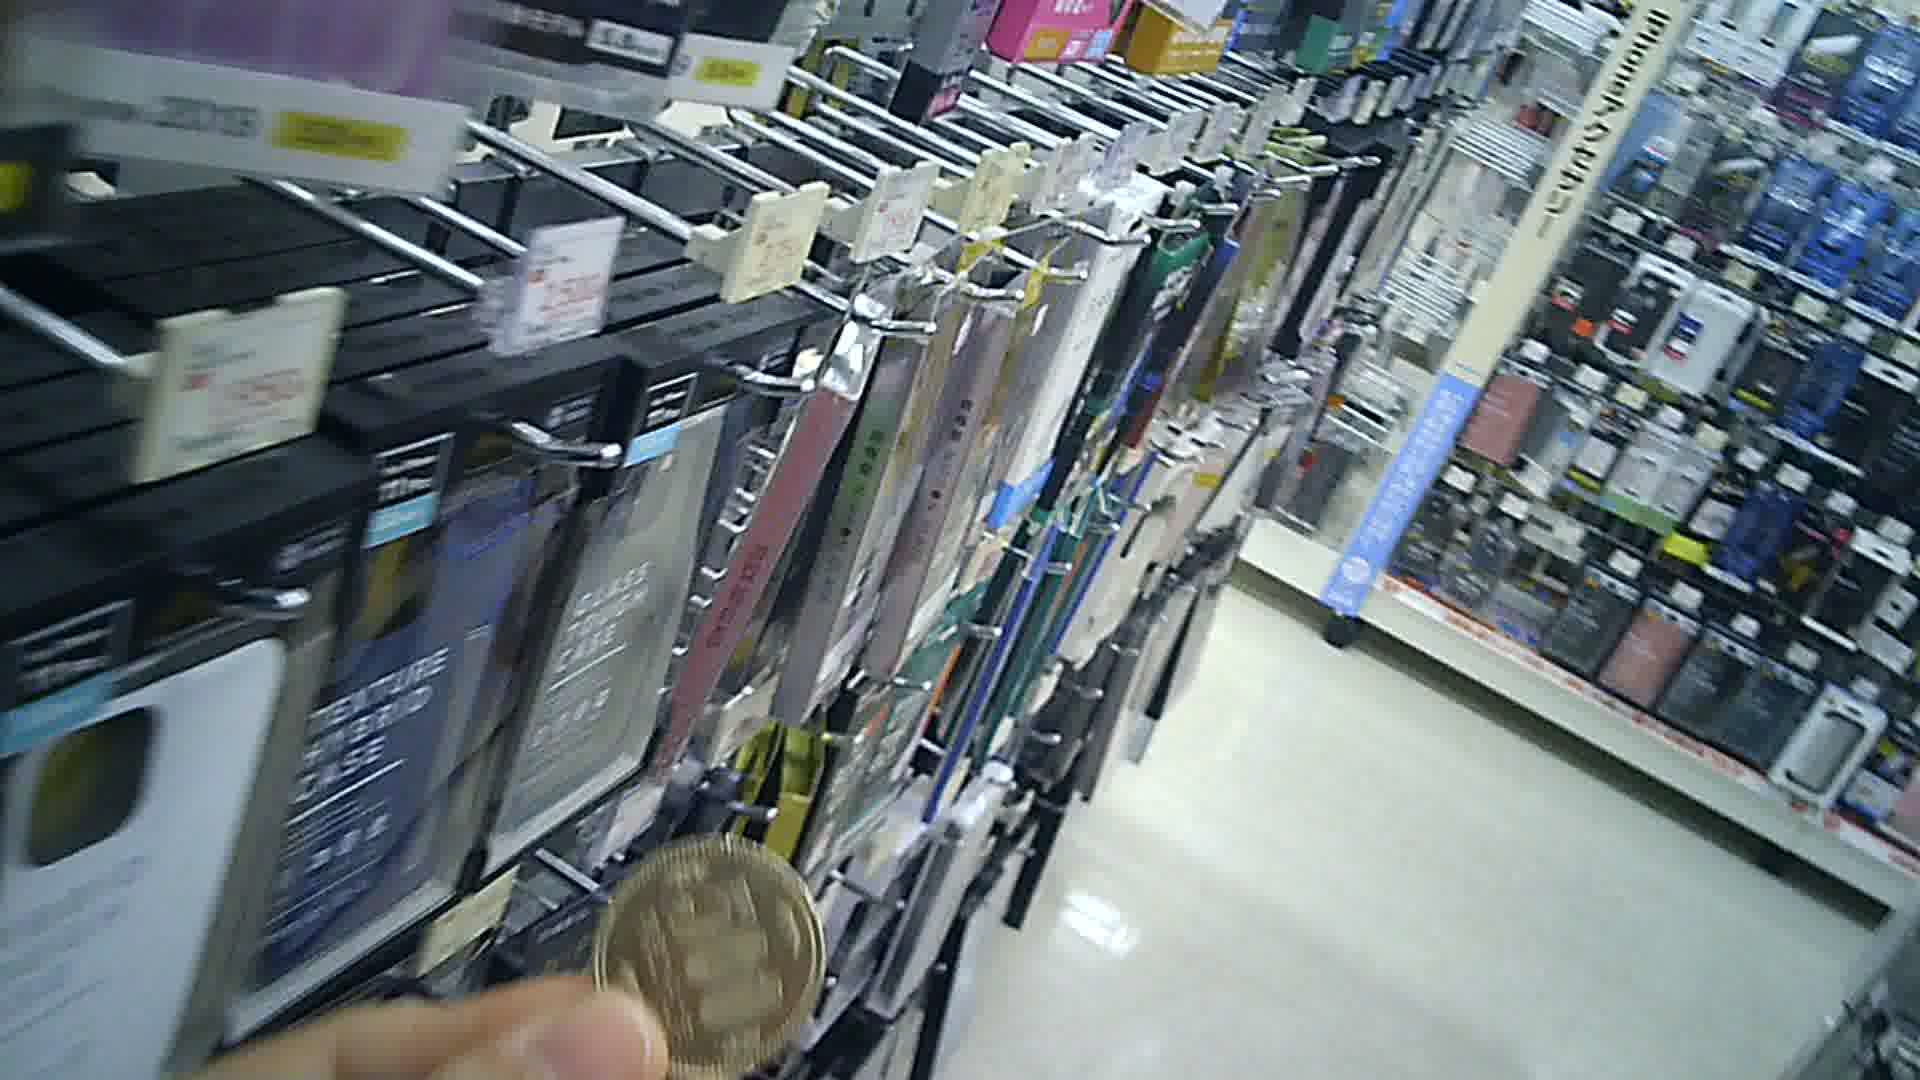500 Yen: (591, 833, 829, 1079)
